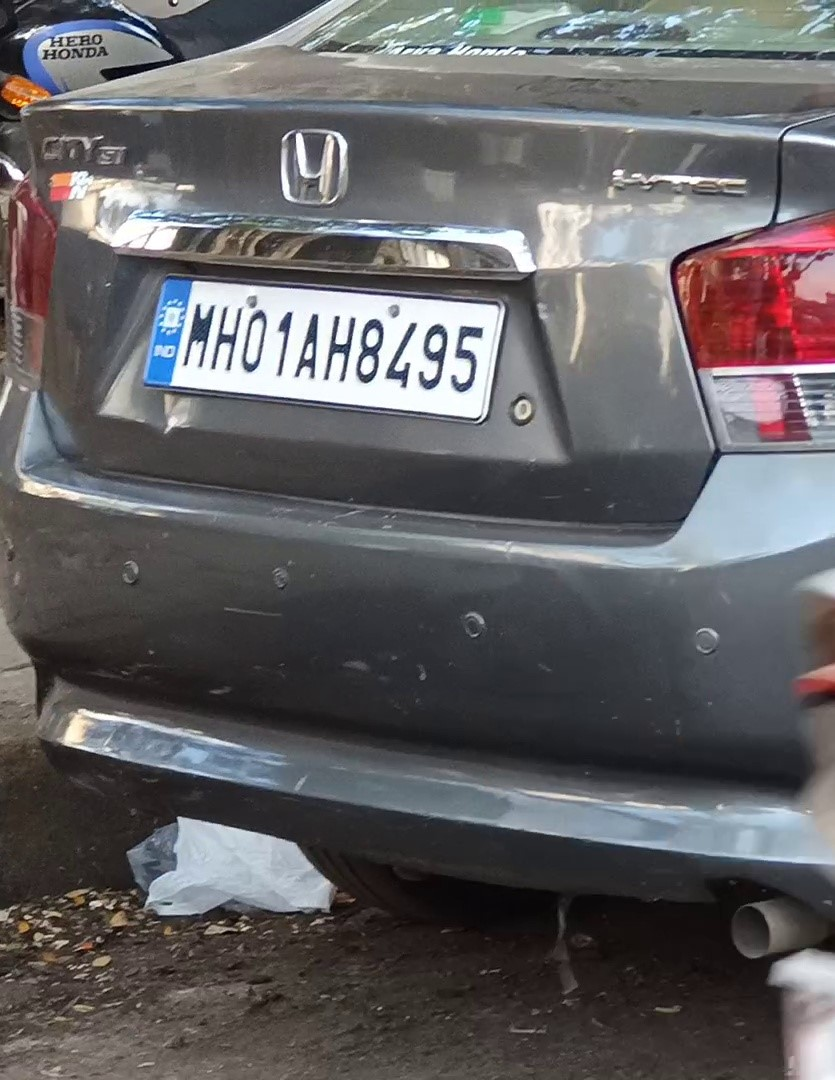MH01AH8495: (144, 274, 502, 425)
